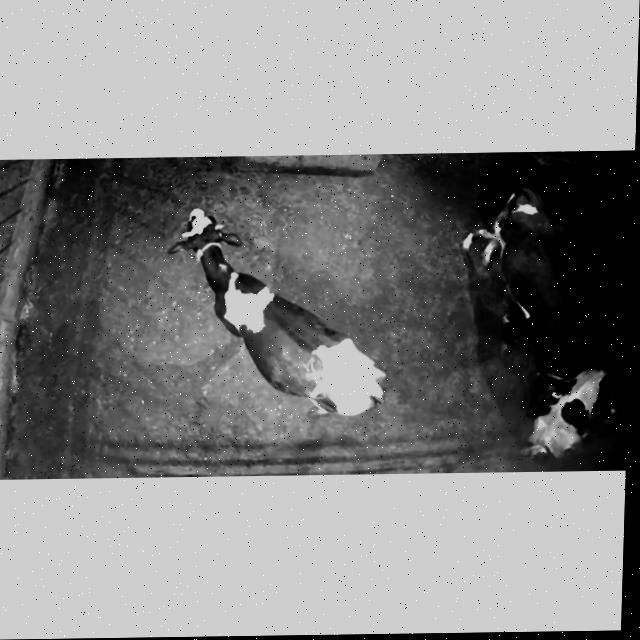stand: (167, 209, 386, 416), (463, 187, 584, 376)
